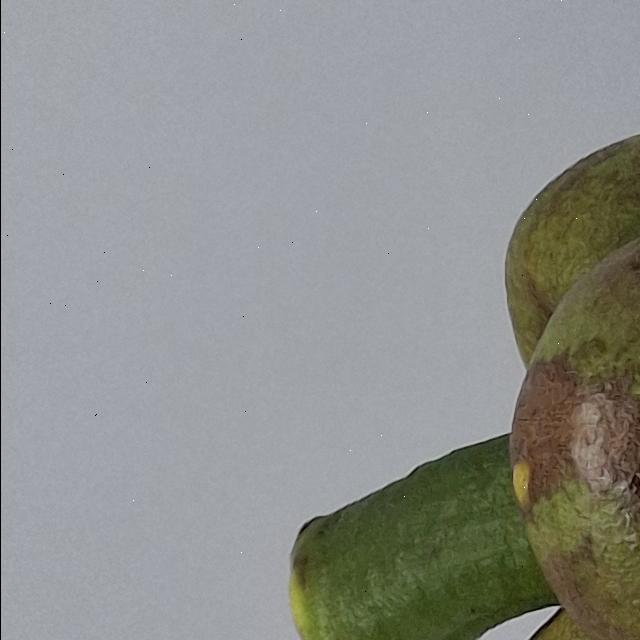mangosteen: (220, 0, 640, 640)
